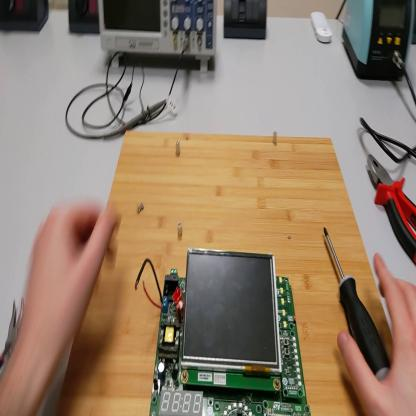hand: (19, 199, 120, 364), (338, 252, 416, 416)
low voltage board: (135, 246, 310, 413)
oscilloscope: (101, 2, 219, 71)
oscilloscope probe tip: (110, 98, 170, 135)
pliers: (367, 153, 416, 264), (1, 296, 27, 371)
screwdriver-: (325, 228, 389, 381)
socket: (1, 1, 51, 35), (68, 3, 101, 37)
welder station: (343, 2, 415, 81)
working area: (58, 129, 385, 416)
